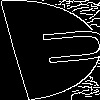U: (25, 25, 100, 68)
